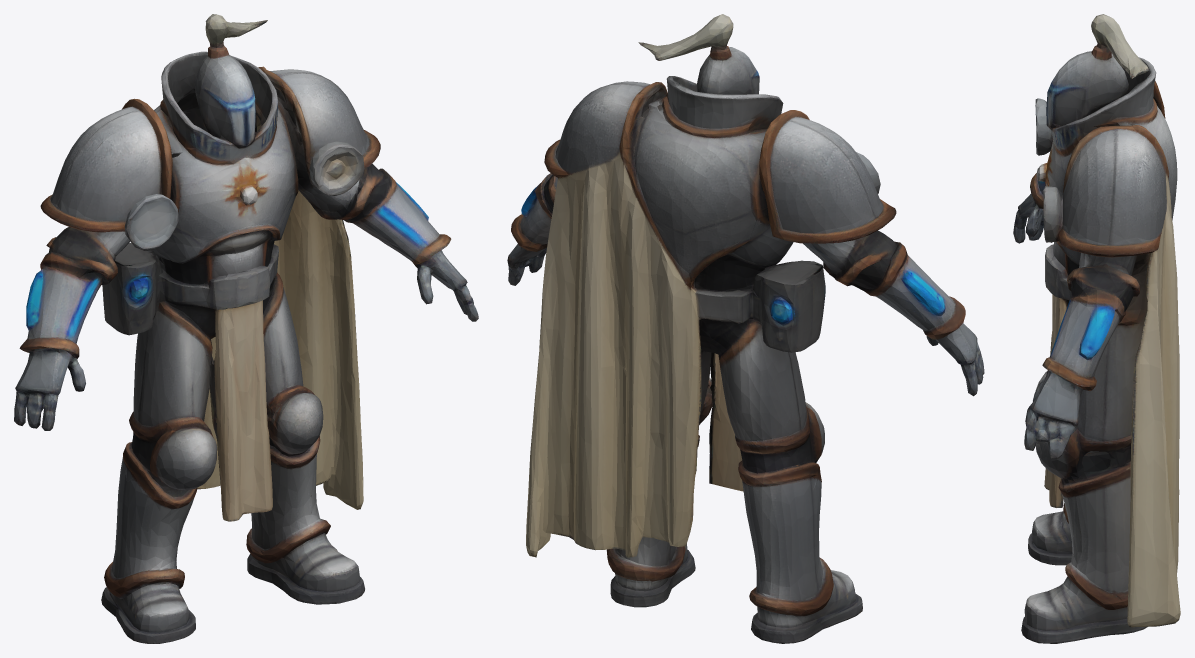
File: silver_knight_v1.glb
3 views of the same model, side by side, from view 1: azimuth 30°, elevation 25°; view 2: azimuth 150°, elevation 25°; view 3: azimuth 270°, elevation 25° (orthographic). The views are drawn at different scales.
Visible parts, largest first — view 1: geometry_0; view 2: geometry_0; view 3: geometry_0.
Boxes of the visible parts, <box> form: geometry_0: <box>14,14,478,643</box>; geometry_0: <box>507,14,984,643</box>; geometry_0: <box>1013,14,1180,643</box>.
Size of the model in its own units: 0.8256 by 0.9991 by 0.2647.
Materials: 1 (1 with a texture image).
